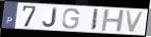7: (21, 5, 37, 28)
G: (61, 8, 81, 30)
H: (100, 10, 126, 33)
I: (90, 8, 100, 32)
J: (42, 7, 58, 28)
V: (124, 10, 146, 34)
